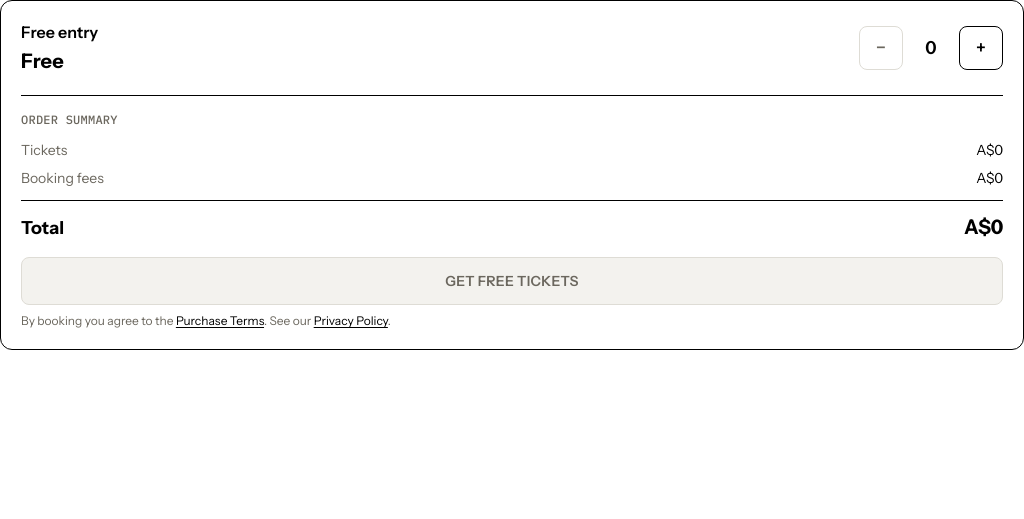
Scenario: TicketSelector (live) › free orders ask for an email (16px, 48px field) and announce a bad one
Click the button named "Increase quantity for Free entry" at (981, 48), box top-left (959, 26), bottom-right (1003, 70)
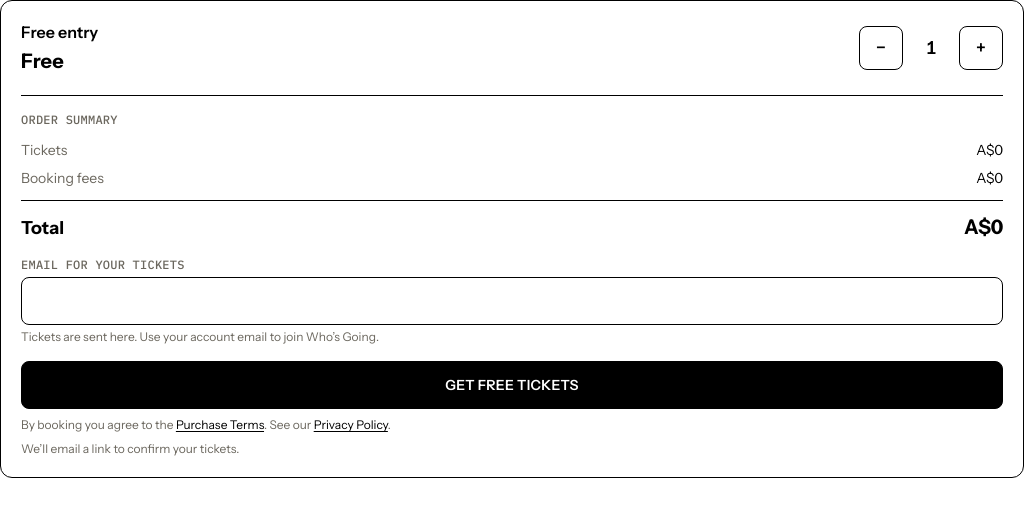
Type "not-an-email" into the field labelled "Email for your tickets" at (512, 301), box top-left (21, 277), bottom-right (1003, 325)
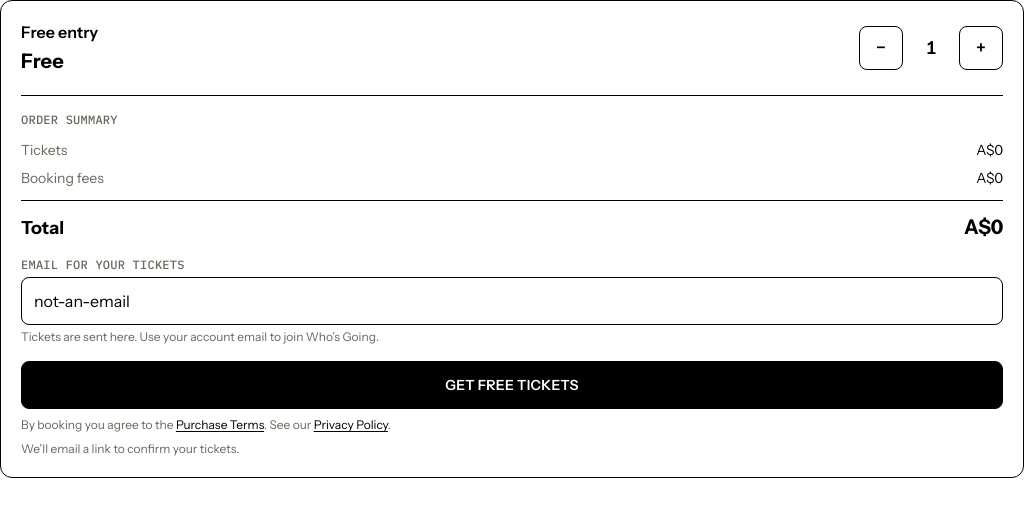
Click the button "Get free tickets" at (512, 385), box top-left (21, 361), bottom-right (1003, 409)
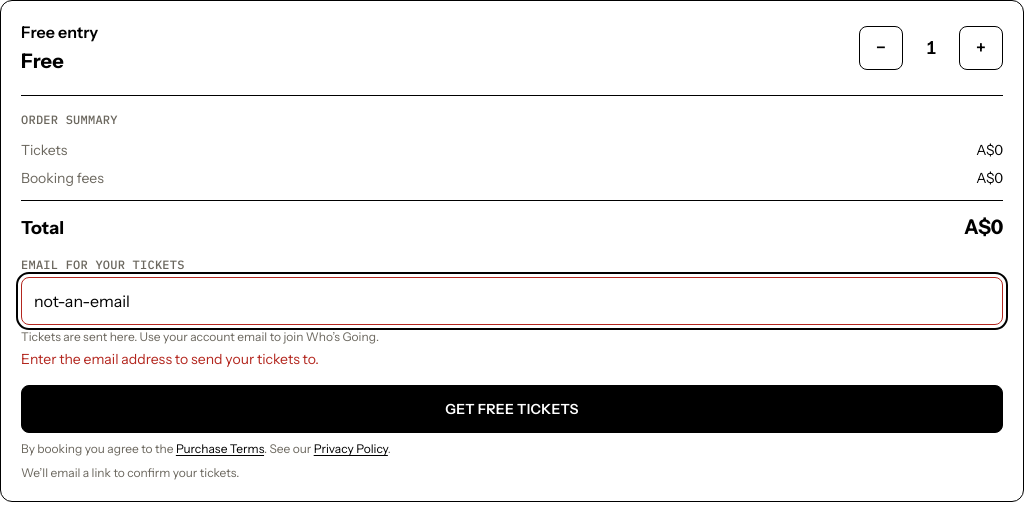
Check: the message reads "Enter the email address to send your tickets to.", box top-left (21, 350), bottom-right (319, 368)
